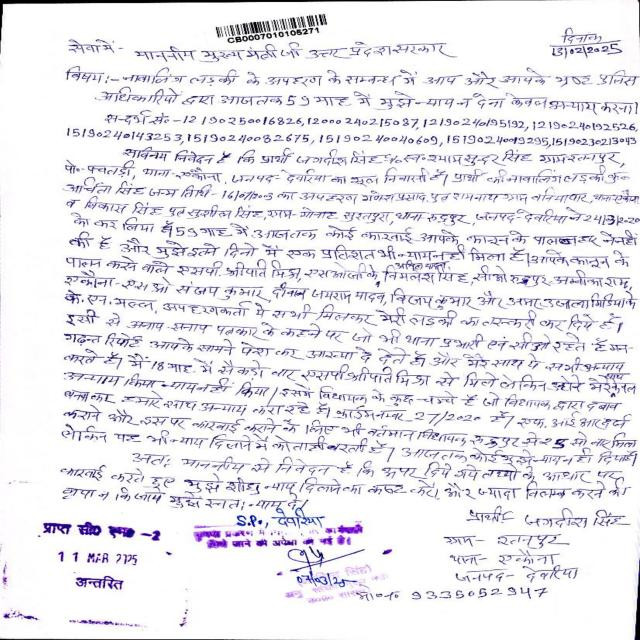antritgovtstamp: (34, 515, 170, 600)
barcode: (210, 10, 338, 48)
signnamestamp: (266, 548, 391, 610)
